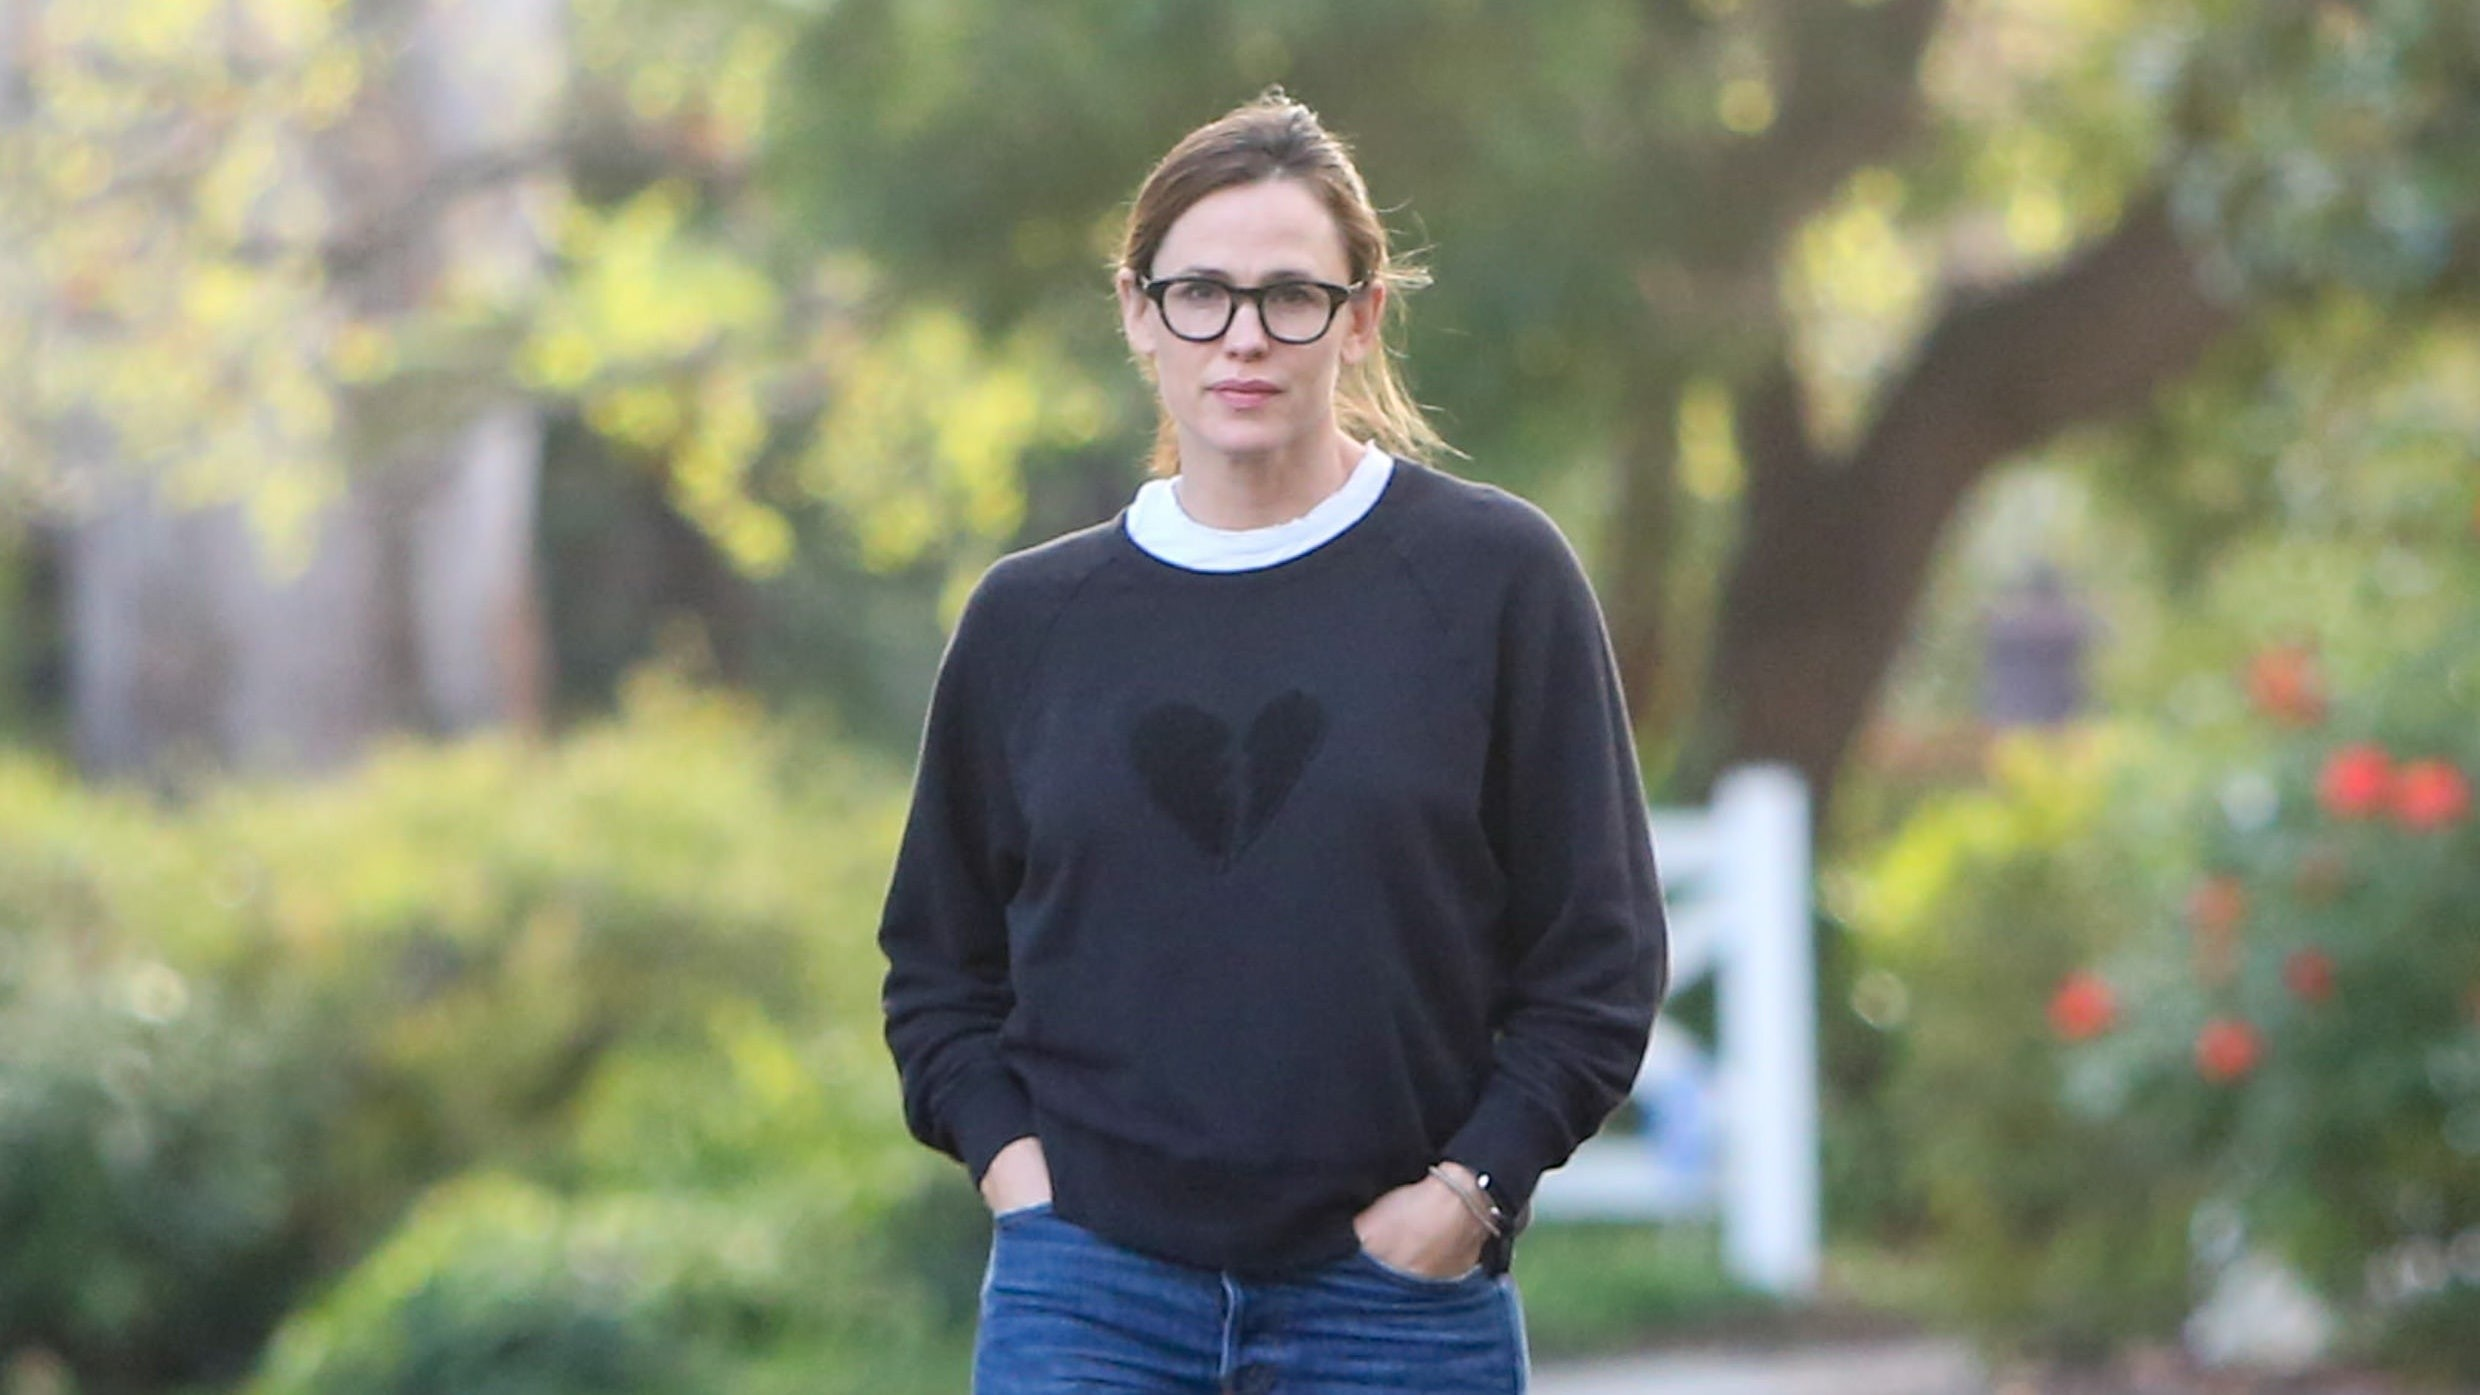face_no_mask: (1120, 131, 1379, 464)
